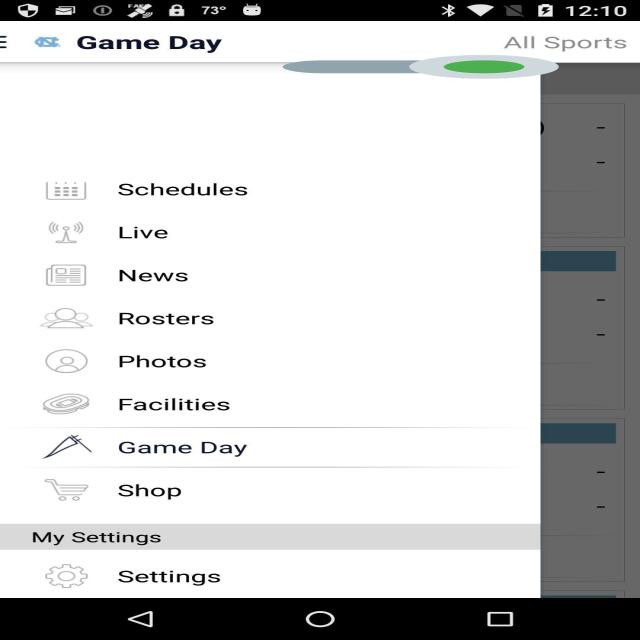social proof: (282, 45, 558, 89)
